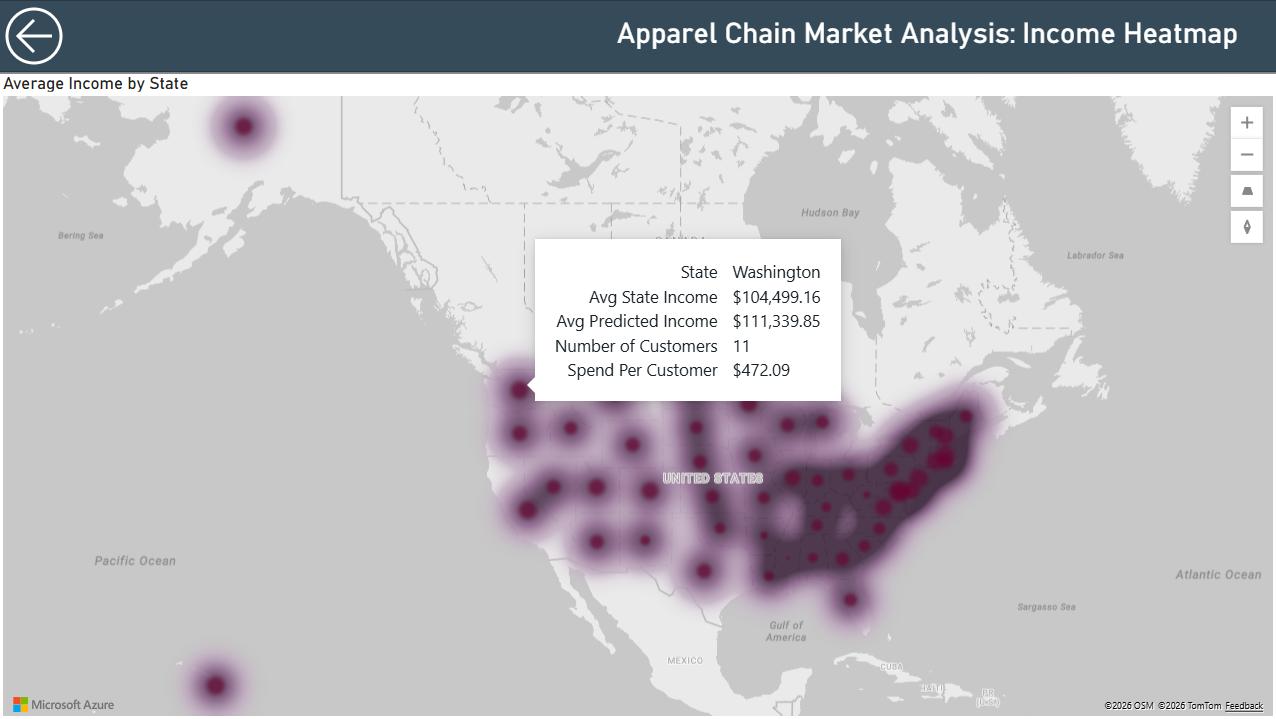

What the dashboard file says about the page in this screenshot:
{"tool":"powerbi","page":{"name":"Income Heatmap","canvas":[1280,720],"ordinal":1},"visuals":[{"type":"shape","box":[0,0,1280,72],"z":0,"group":"g1"},{"type":"azureMap","title":"Average Income by State","fields":{"Category":["State Avg Income.State"],"Size":["Avg(State Avg Income.Average Income)"]},"box":[0,72,1280,648],"z":0},{"type":"textbox","box":[614,11,666,49],"z":1000,"group":"g1"},{"type":"group","id":"g1","title":"Header","box":[0,0,1280,72],"z":2000,"group":"g2"},{"type":"group","id":"g2","title":"Header","box":[0,0,1280,72],"z":2001},{"type":"actionButton","title":"Back Button","box":[0,0,83,72],"z":2500,"group":"g2"}]}

Visuals, with their boxes in screenshot pixels (x1, y1, x2, y2), scaled from the page's 1280x720 canvas onto the 1276x719 screenshot:
shape: Rect(0, 0, 1275, 72)
"Average Income by State" azureMap: Rect(0, 72, 1275, 718)
textbox: Rect(612, 11, 1275, 60)
"Header" group: Rect(0, 0, 1275, 72)
"Header" group: Rect(0, 0, 1275, 72)
"Back Button" actionButton: Rect(0, 0, 83, 72)
